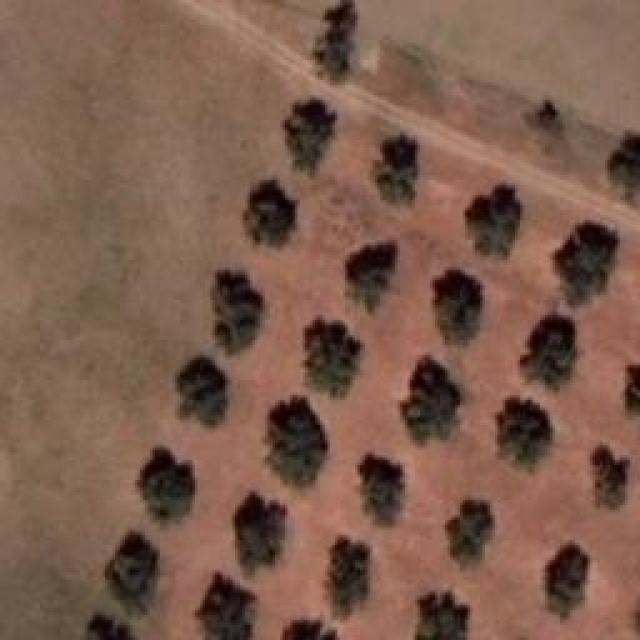Tree: (553, 223, 619, 306), (270, 395, 329, 486), (400, 355, 461, 442), (305, 317, 363, 397), (137, 447, 195, 522), (213, 270, 264, 355), (235, 492, 289, 572), (520, 315, 576, 391), (105, 533, 159, 611), (465, 185, 521, 260), (498, 398, 554, 471), (195, 573, 255, 640), (285, 98, 338, 173), (433, 270, 483, 345), (178, 357, 229, 427), (345, 243, 395, 314), (245, 180, 298, 246), (330, 535, 371, 617), (315, 0, 355, 81), (545, 545, 589, 618), (447, 500, 495, 566), (375, 135, 420, 205), (360, 455, 404, 526), (415, 592, 468, 640), (593, 445, 632, 510), (607, 132, 640, 205), (88, 612, 136, 640), (283, 620, 342, 640), (538, 100, 561, 131), (625, 365, 640, 412)
